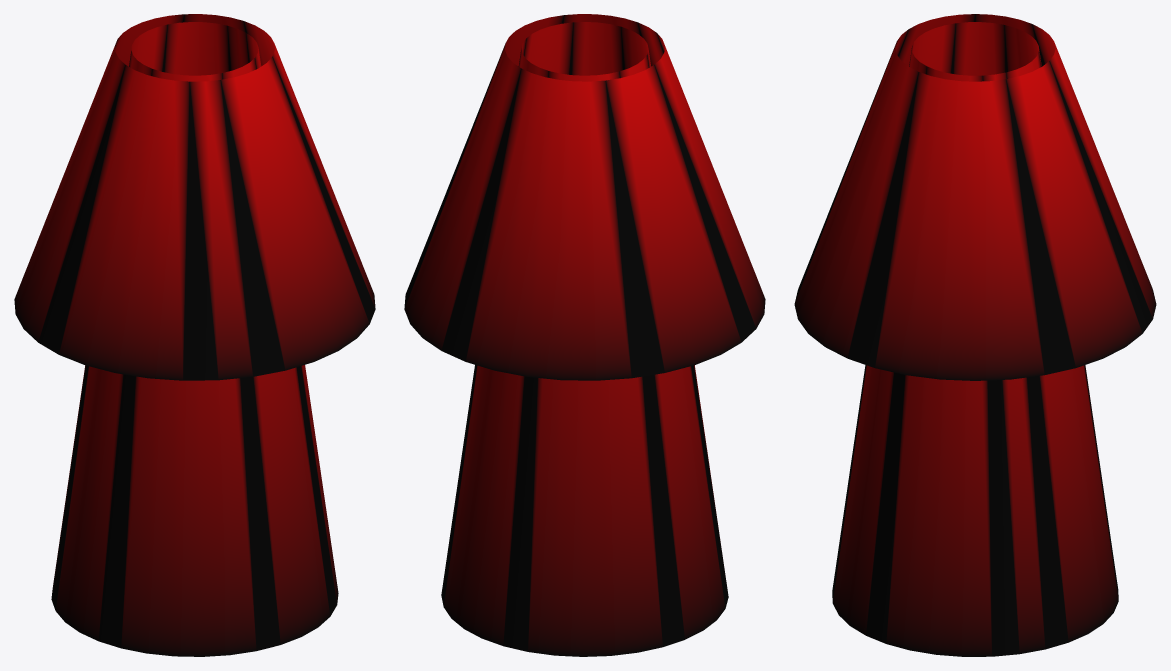
File: dreamhouse_Water.fbx
The picture shows the model from 3 angles, left to right: view 1: azimuth 30°, elevation 25°; view 2: azimuth 150°, elevation 25°; view 3: azimuth 270°, elevation 25°; orthographic projection.
Visible parts, largest first — view 1: Dreamhouse_water; view 2: Dreamhouse_water; view 3: Dreamhouse_water.
Boxes of the visible parts, bbox=[...] form: Dreamhouse_water: bbox=[14, 14, 375, 656]; Dreamhouse_water: bbox=[404, 14, 765, 656]; Dreamhouse_water: bbox=[794, 14, 1156, 656].
Size of the model in its own units: 525 by 878 by 525.
